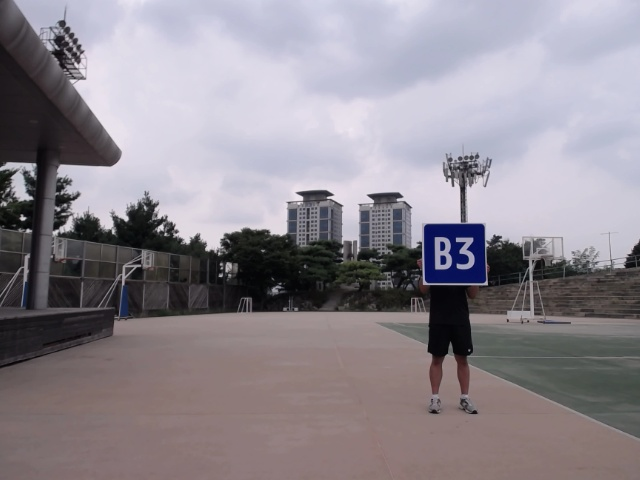delivery_b3: (422, 220, 490, 287)
